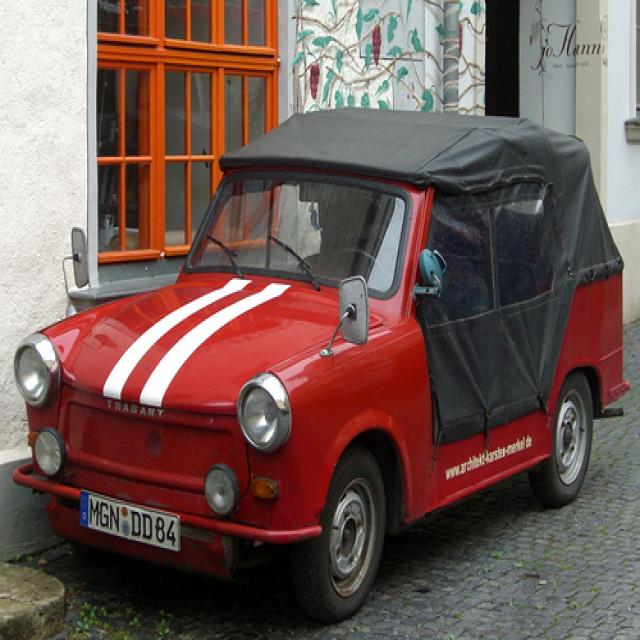Car: (14, 103, 624, 618)
